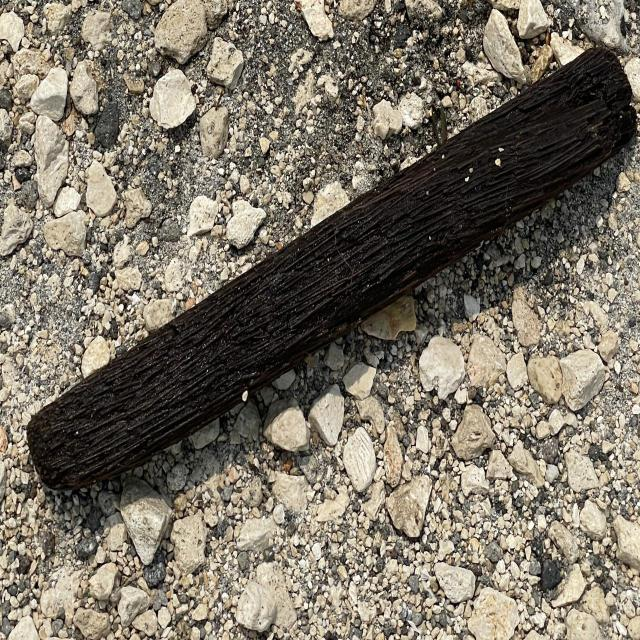wood_waste: (27, 36, 639, 501)
